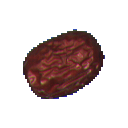gd: (13, 15, 115, 115)
